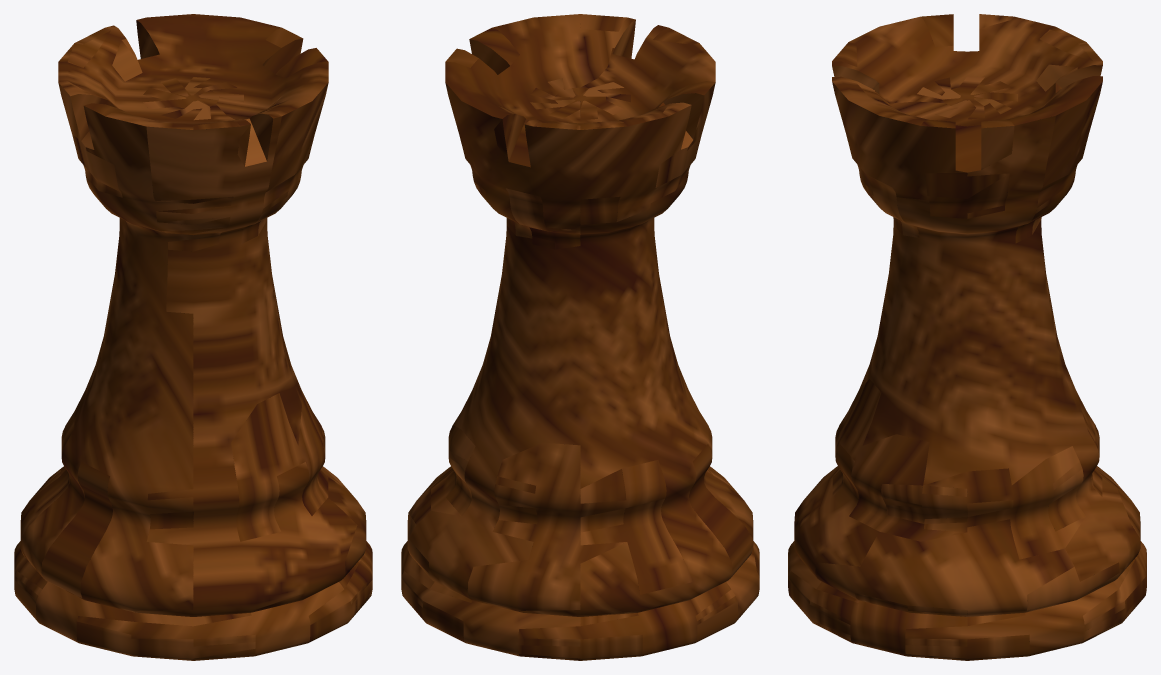
Rendered from torreNegra.obj.
The picture shows the model from 3 angles, left to right: view 1: azimuth 30°, elevation 25°; view 2: azimuth 150°, elevation 25°; view 3: azimuth 270°, elevation 25°; orthographic projection.
Visible parts, largest first — view 1: body; view 2: body; view 3: body.
Part boxes in pixels (left/top/right/bottom): body: left=14, top=14, right=372, bottom=660; body: left=401, top=14, right=759, bottom=660; body: left=788, top=14, right=1146, bottom=660.
Size of the model in its own units: 1.66 by 2.6 by 1.63.
Materials: 1 (1 with a texture image).
